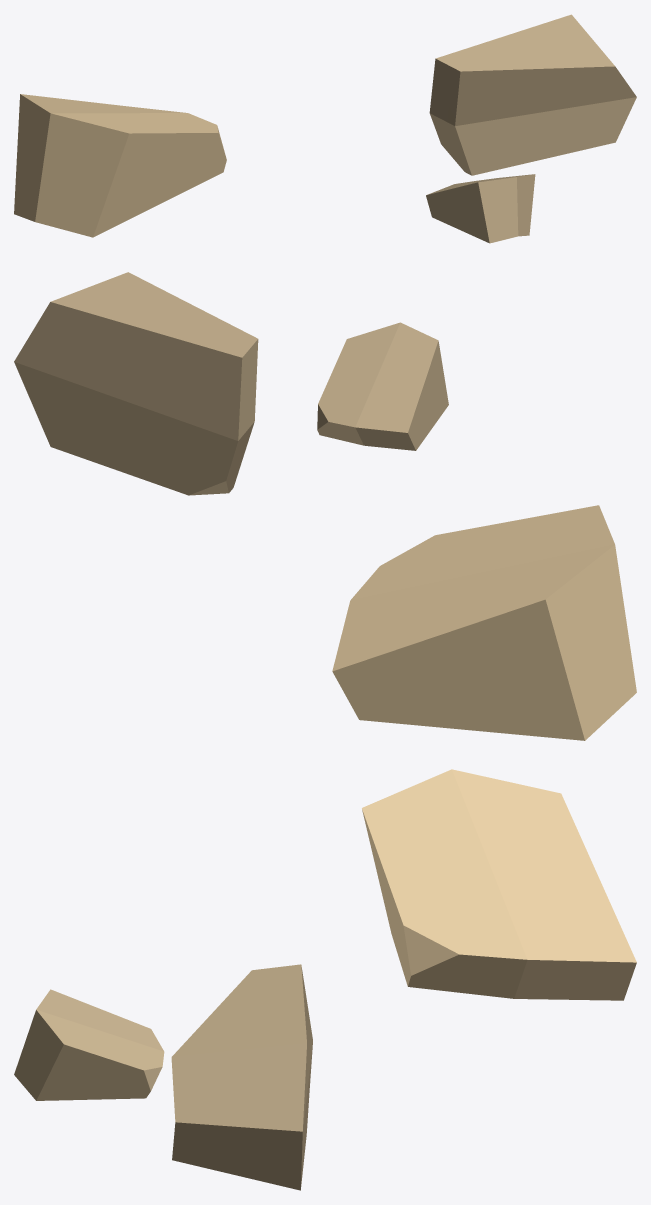
Rendered from Bone_Fragments_1__0.glb.
3 views of the same model, one above another, from view 1: azimuth 30°, elevation 25°; view 2: azimuth 150°, elevation 25°; view 3: azimuth 270°, elevation 25° (orthographic). The views are drawn at different scales.
Visible parts, largest first — view 1: Bone_Fragments_1__0; view 2: Bone_Fragments_1__0; view 3: Bone_Fragments_1__0.
Part boxes in pixels (bbox=[...]): Bone_Fragments_1__0: bbox=[14, 14, 636, 243]; Bone_Fragments_1__0: bbox=[14, 272, 636, 740]; Bone_Fragments_1__0: bbox=[14, 769, 636, 1190].
Size of the model in its own units: 0.2012 by 0.0544 by 0.1579.
1 material, 1 textured.
